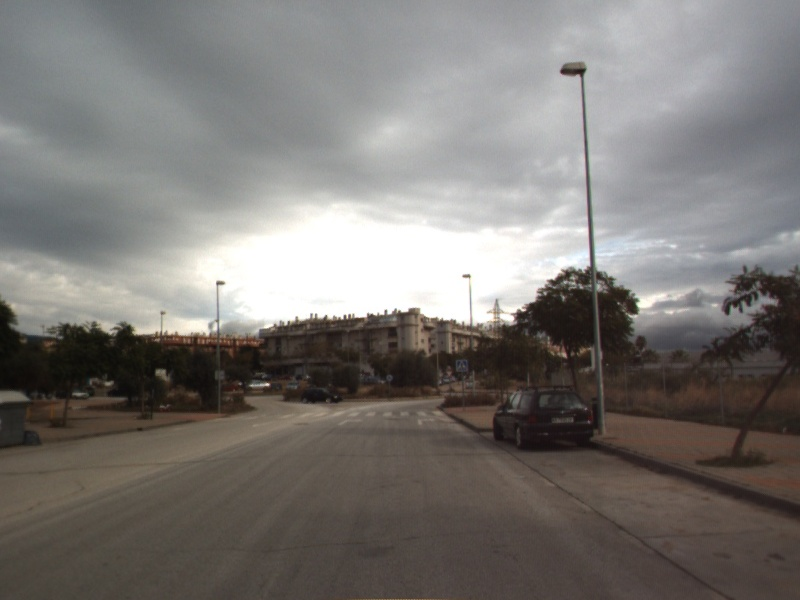RIGHT: (335, 416, 365, 427), (416, 416, 438, 427)
